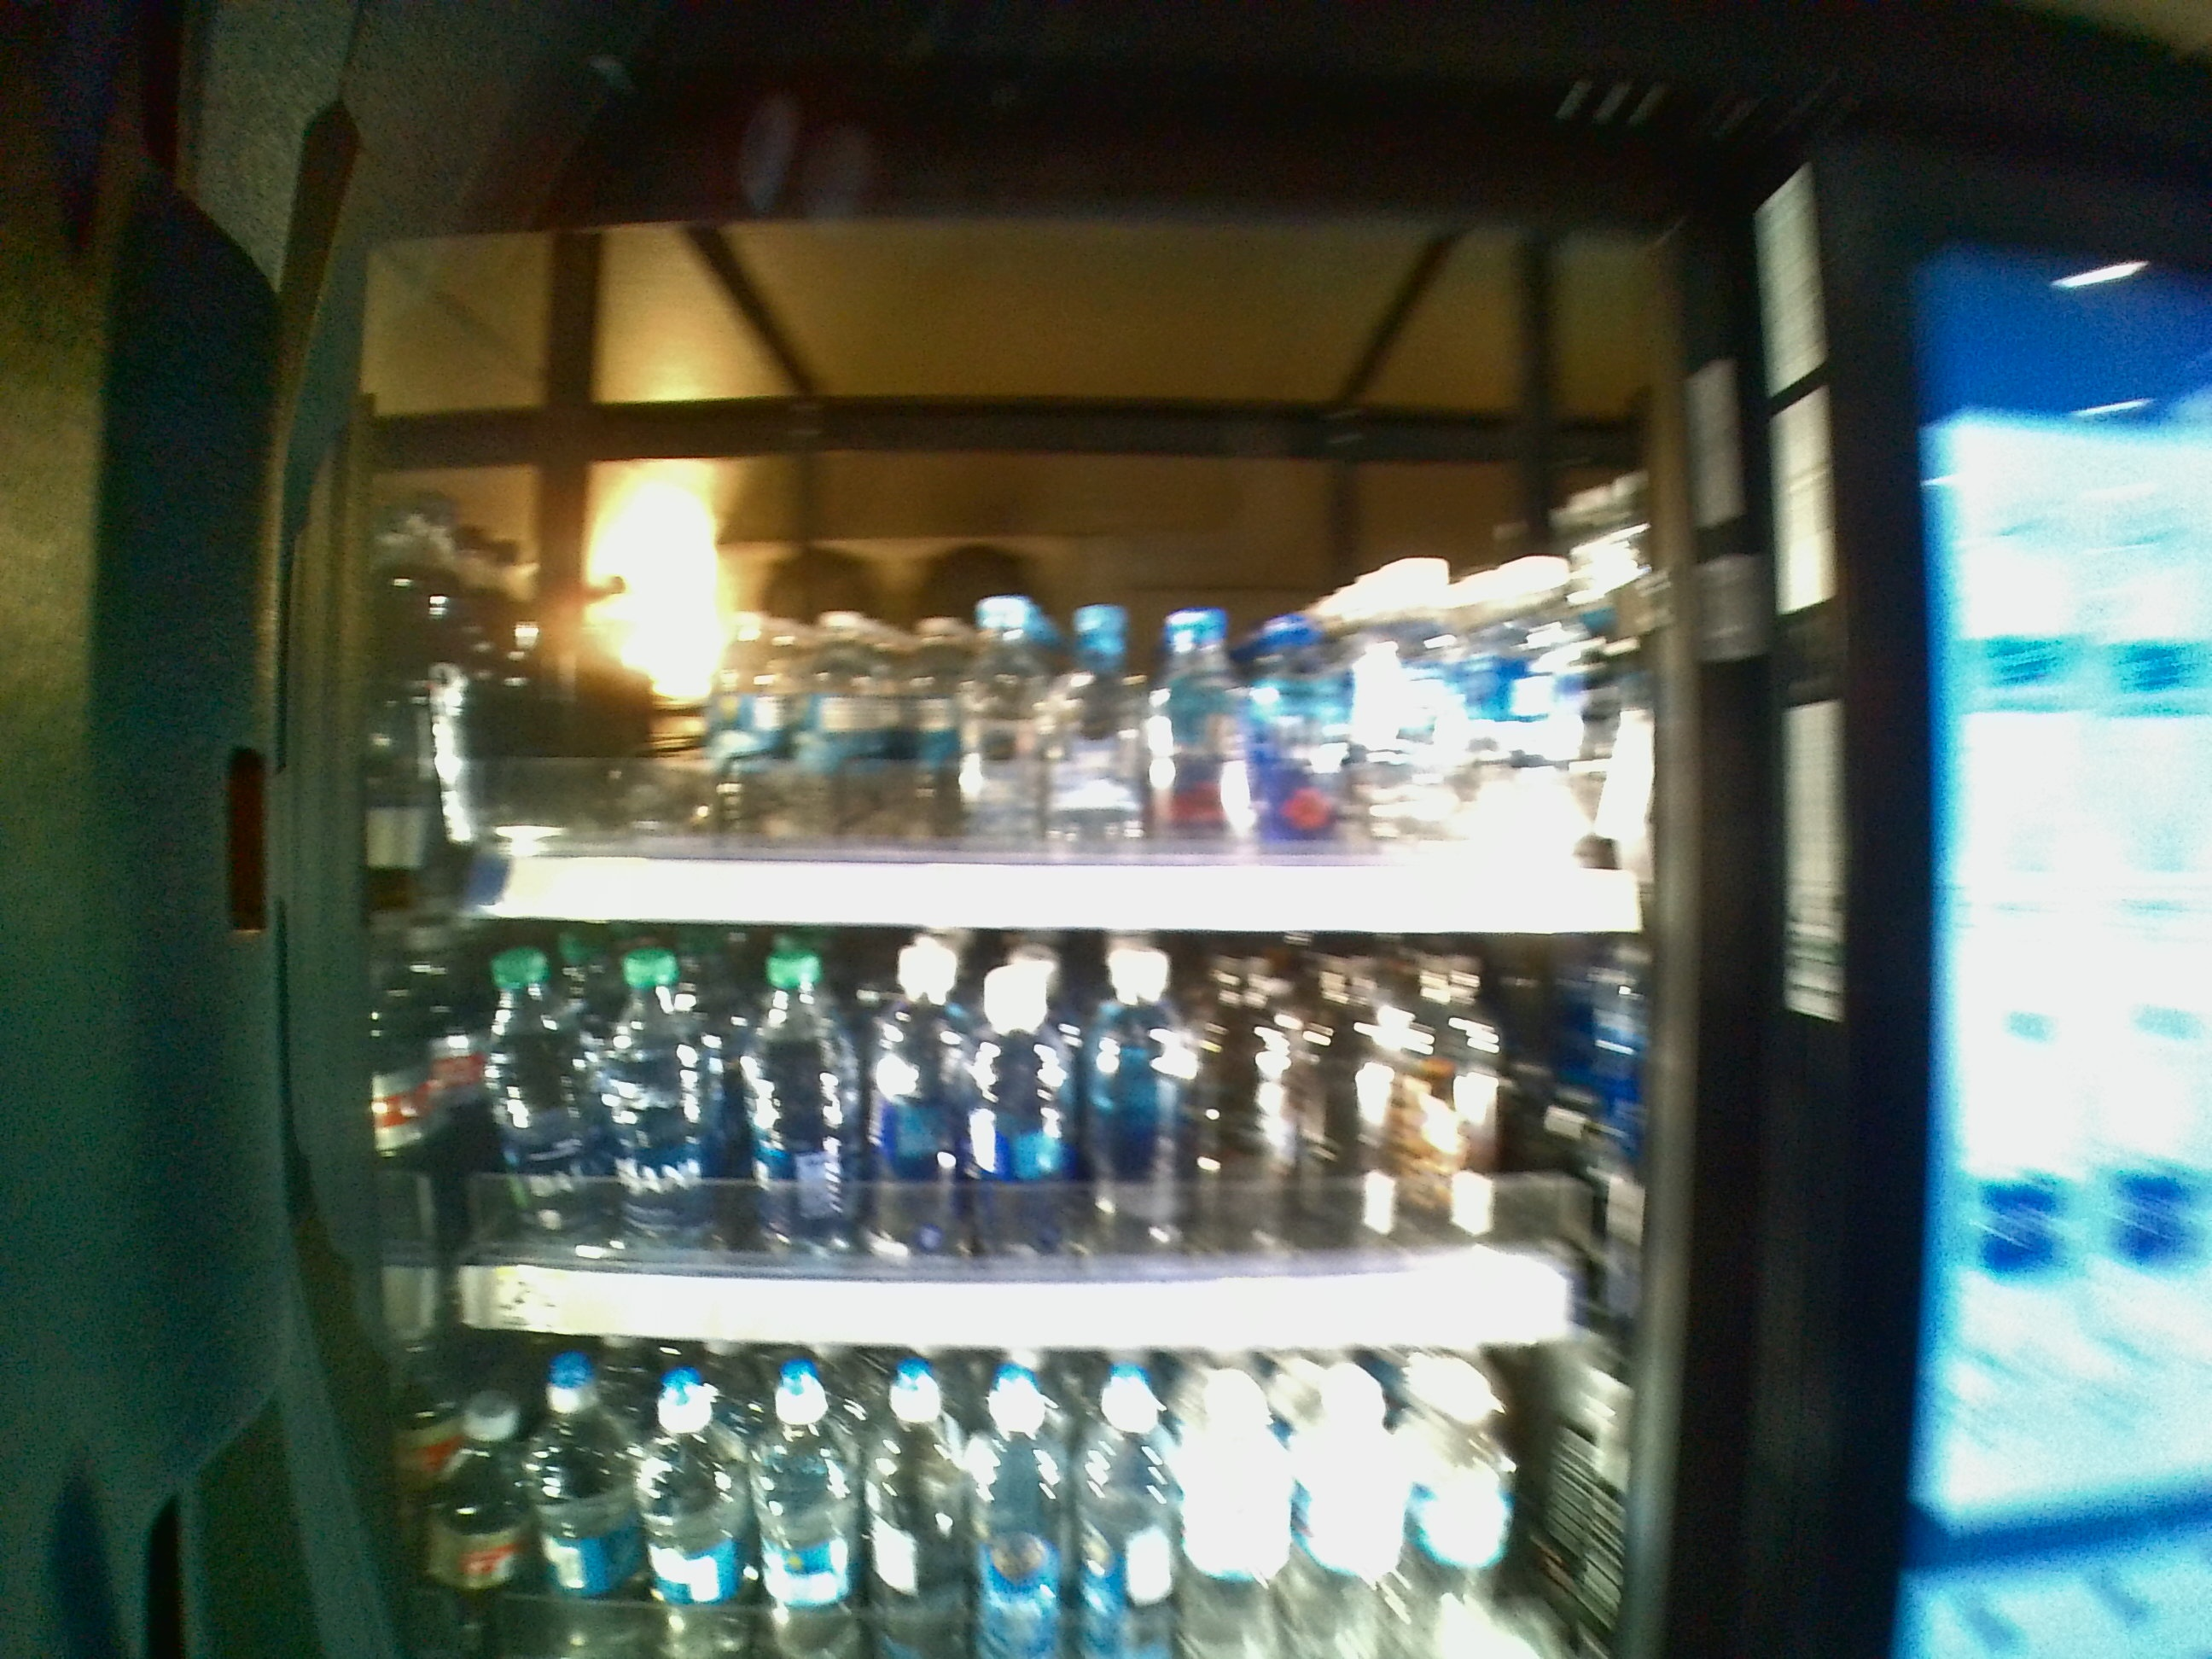Shelf: (392, 448, 1676, 938), (395, 943, 1681, 1356)
